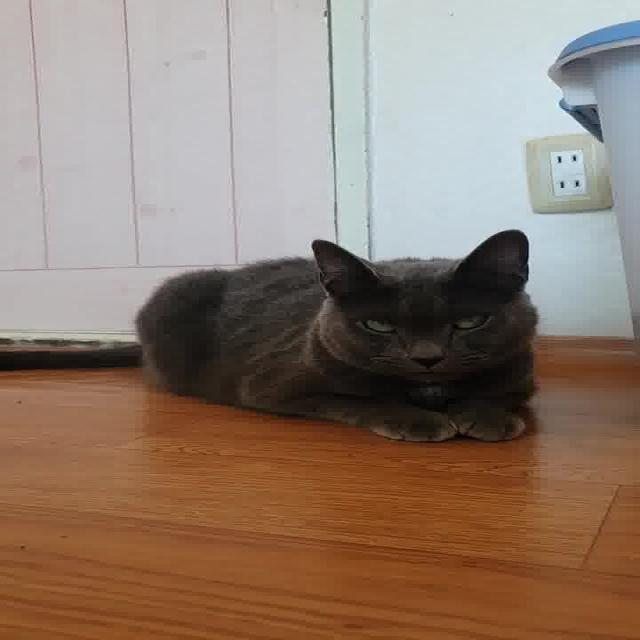cat: (6, 223, 575, 454)
